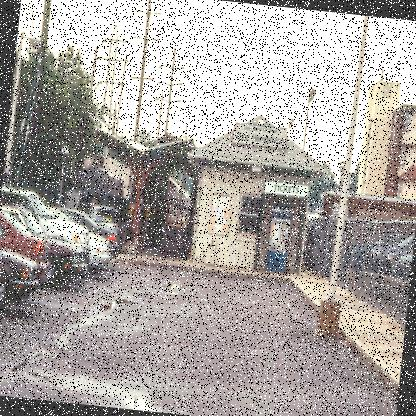Car: (0, 178, 126, 330)
